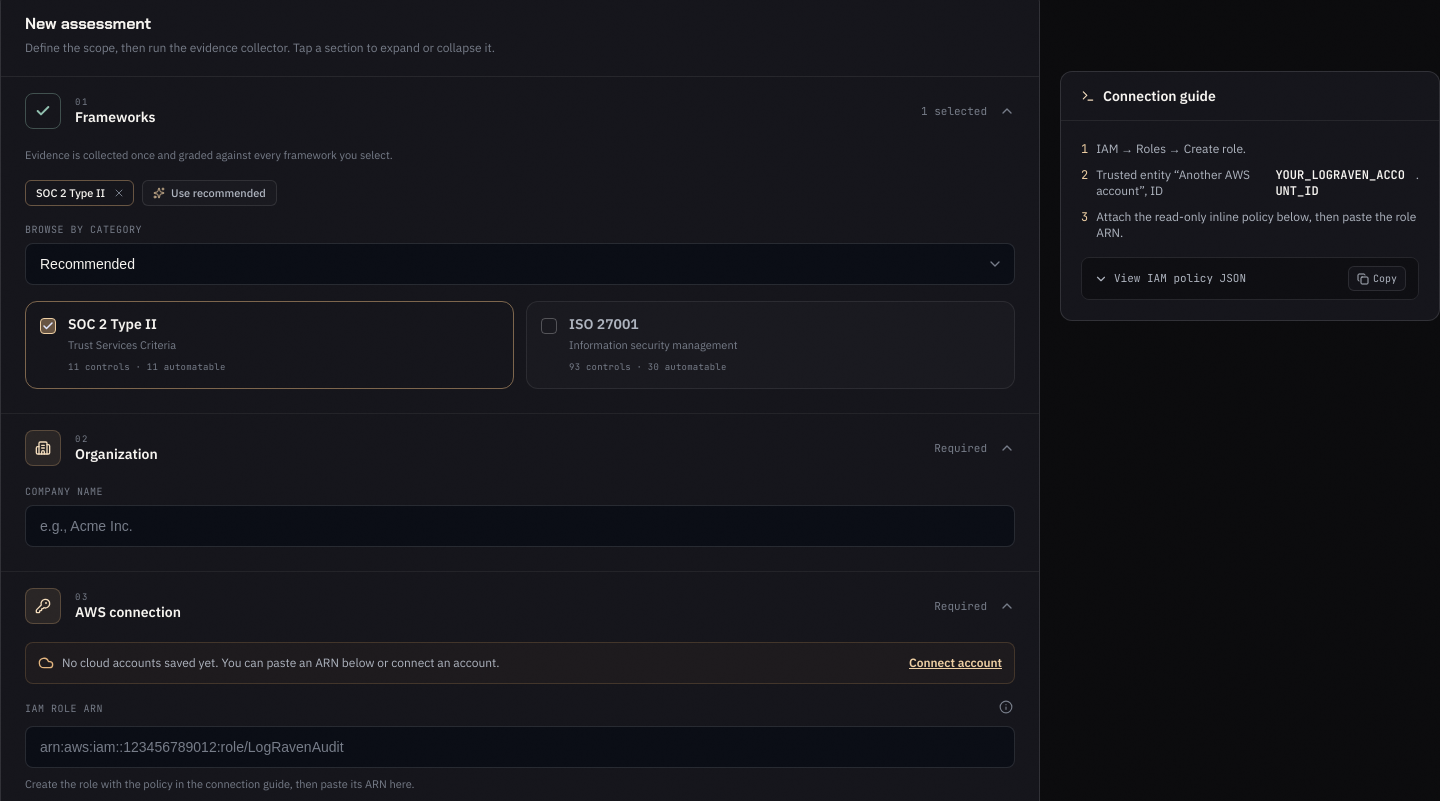
AuditForm › adds and removes frameworks from the loaded catalog
The image size is (1440, 801).
Click the button "ISO 27001" at [604, 324], box [526,301,1015,389]
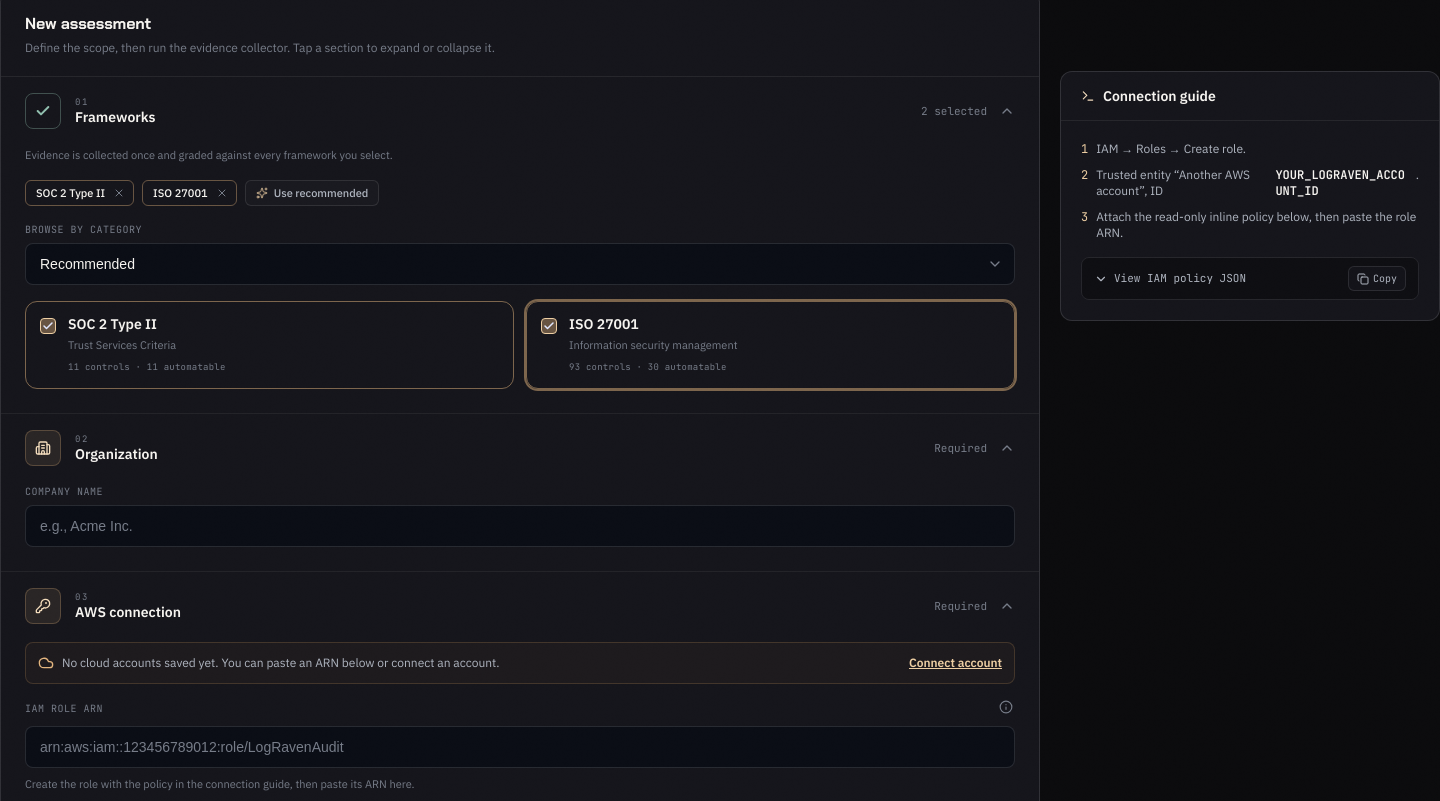
Click the button named "Remove SOC 2 Type II" at [119, 193], box [111,185,127,201]
(page scrolled)
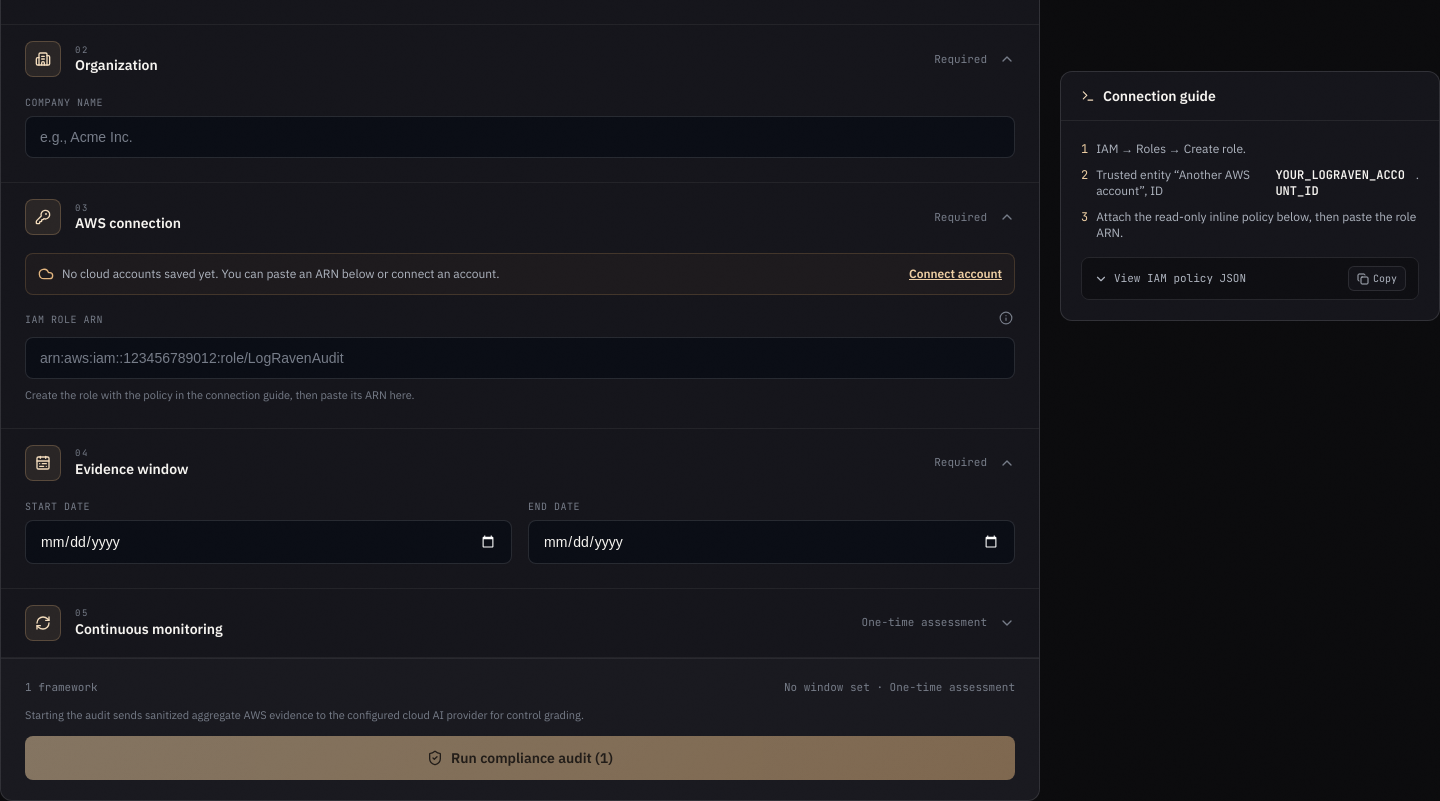
Expected: the text "1 framework" is shown, [25,679,98,695]
